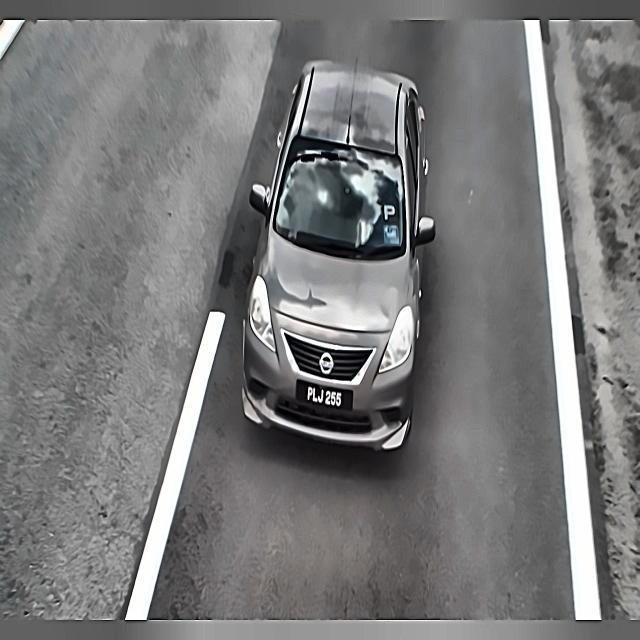car: (296, 373, 356, 423)
